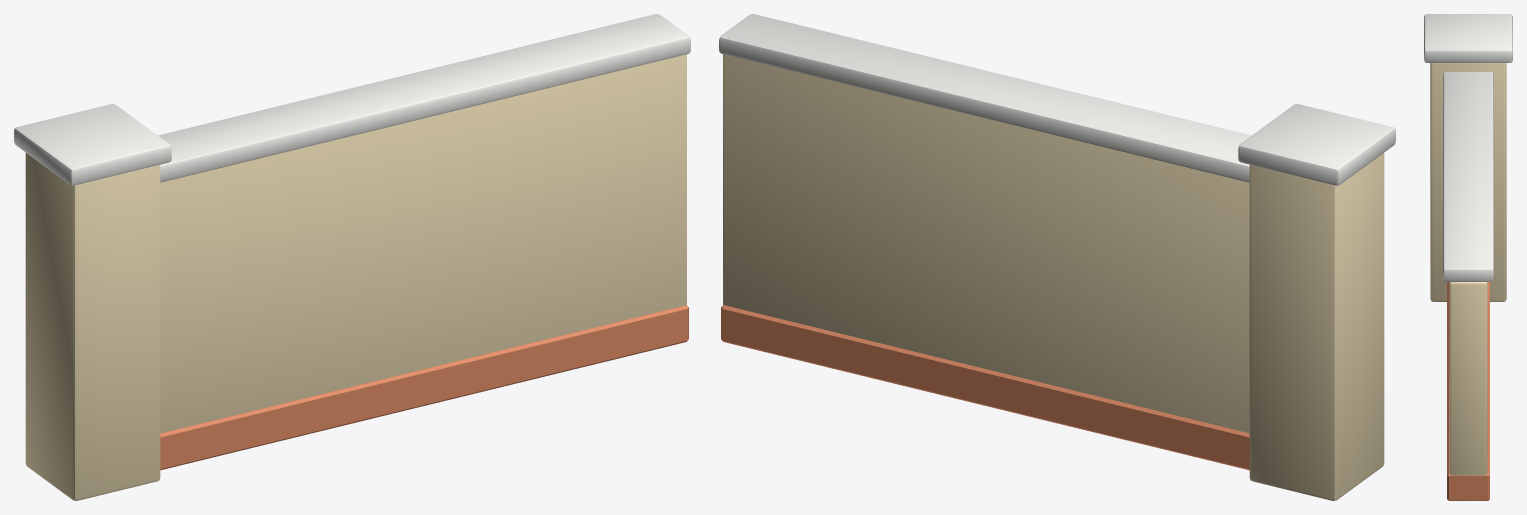
Rendered from cerca_muro_2m.glb.
3 renders of one model, left to right at view 1: azimuth 30°, elevation 25°; view 2: azimuth 150°, elevation 25°; view 3: azimuth 270°, elevation 25°, orthographic. The views are drawn at different scales.
Parts seen in each view (by area): view 1: cerca_muro_2m; view 2: cerca_muro_2m; view 3: cerca_muro_2m.
Boxes of the visible parts, x1,y1,x2,y2 form: cerca_muro_2m: [14, 14, 690, 500]; cerca_muro_2m: [719, 14, 1395, 500]; cerca_muro_2m: [1424, 14, 1512, 500].
Size of the model in its own units: 2.18 by 1.11 by 0.35.
1 material, 1 textured.
